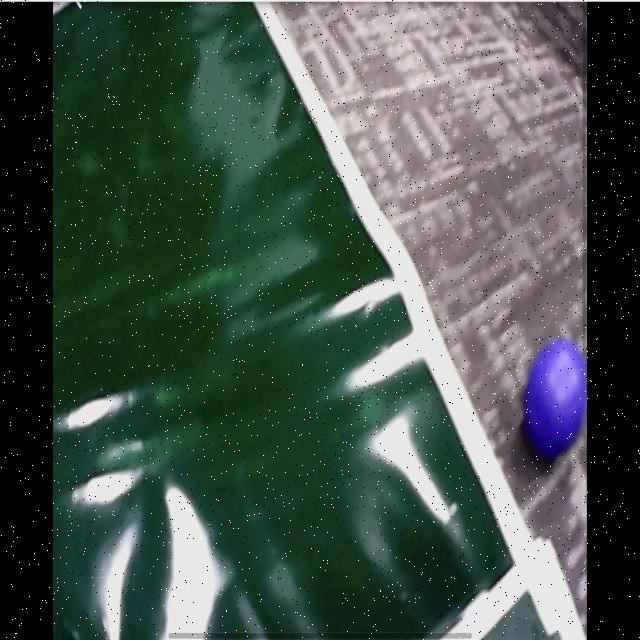ball: (524, 339, 588, 458)
